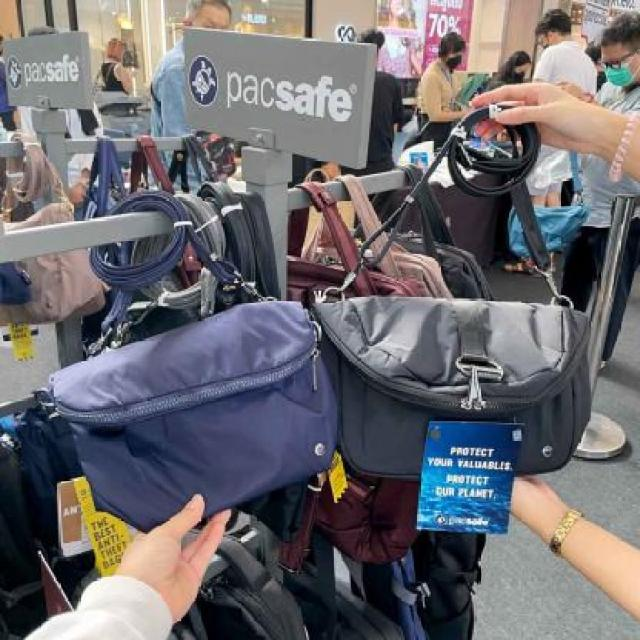Bag: (351, 78, 640, 516), (29, 212, 357, 518)
